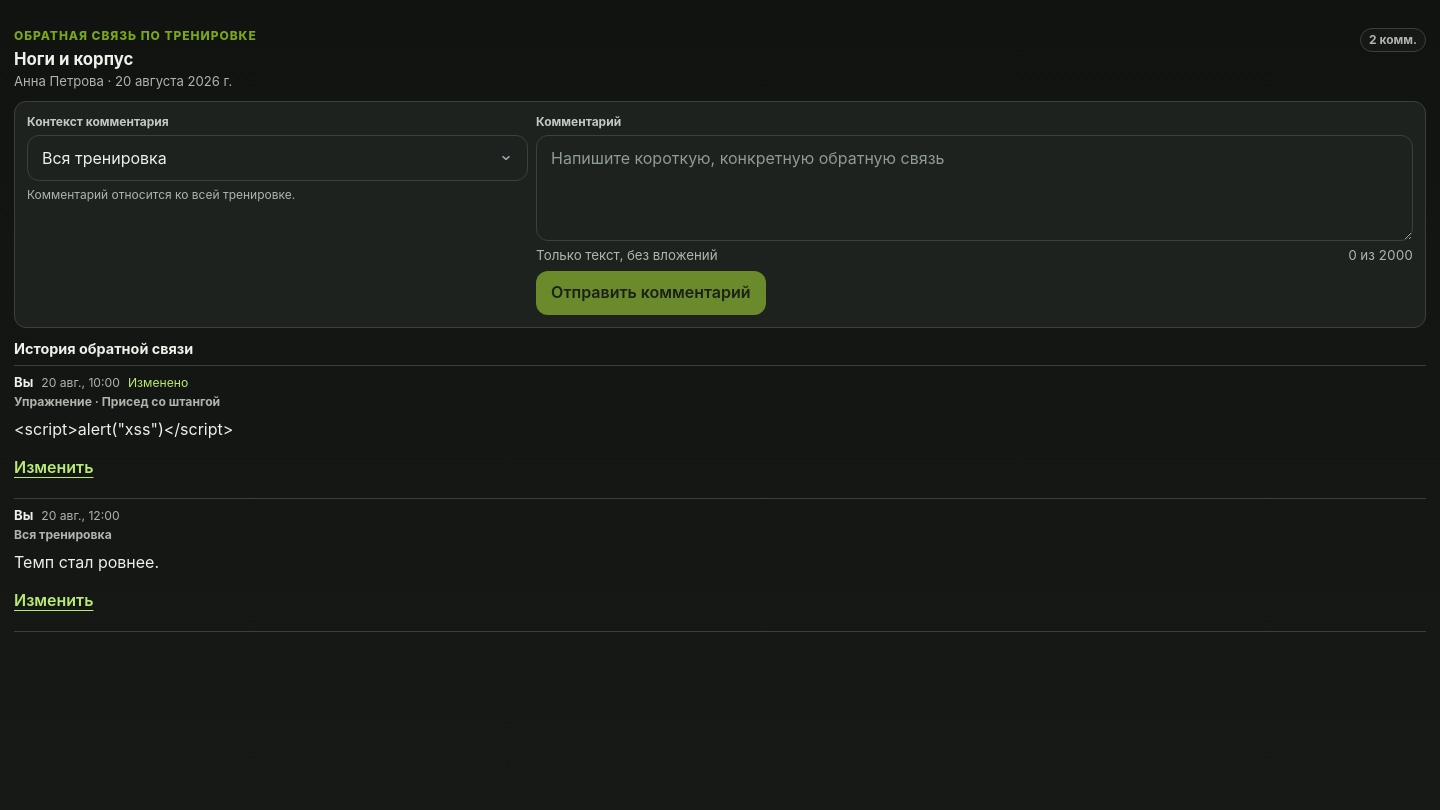
WorkoutFeedback › редактирует существующий комментарий через поддерживаемый PATCH
Click the button "Изменить" below "20 авг., 10:00".
click(54, 468)  # box [14, 446, 94, 490]
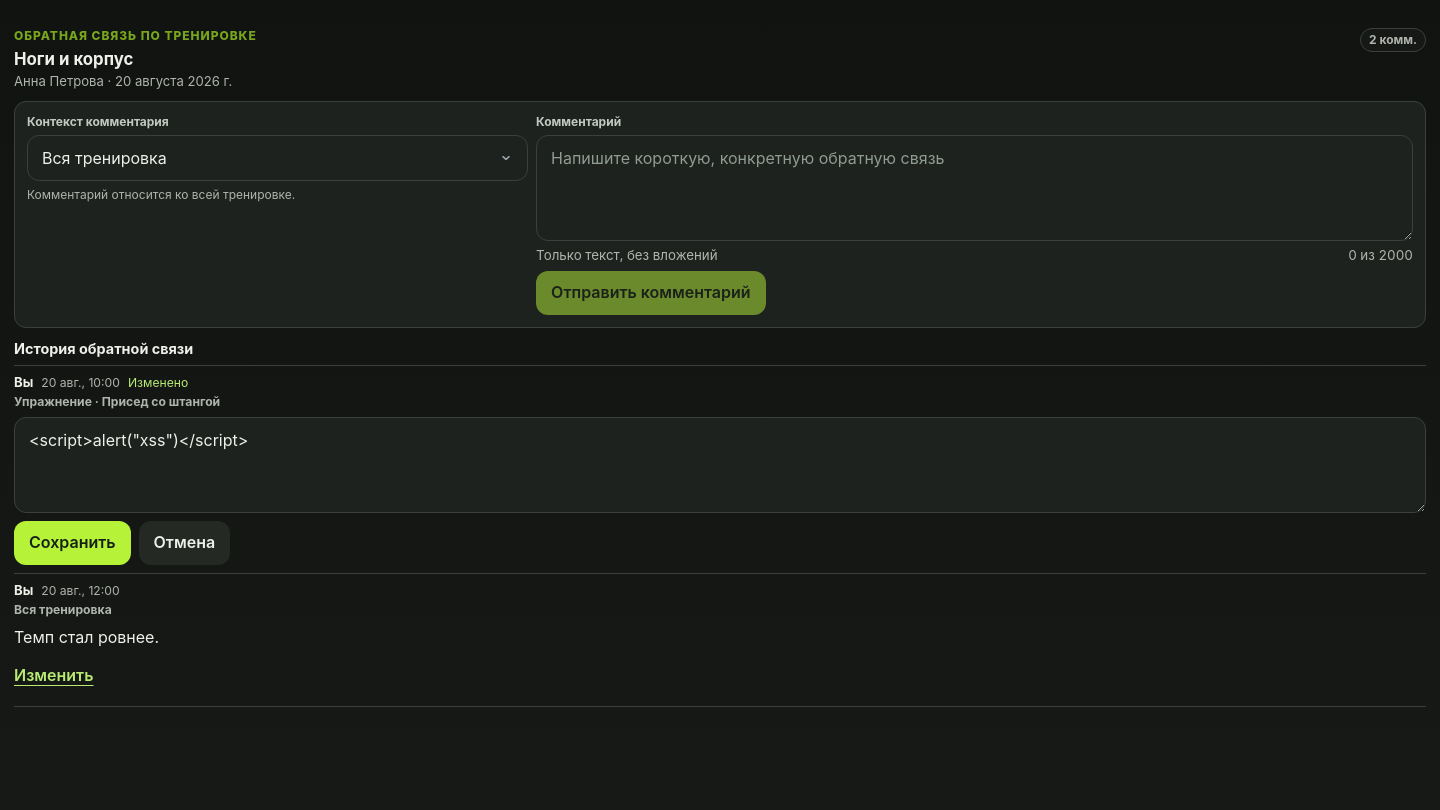
Replace the text in the text box named "Изменить комментарий" with "Колени двигаются увереннее." at (720, 465), box [14, 417, 1426, 513]
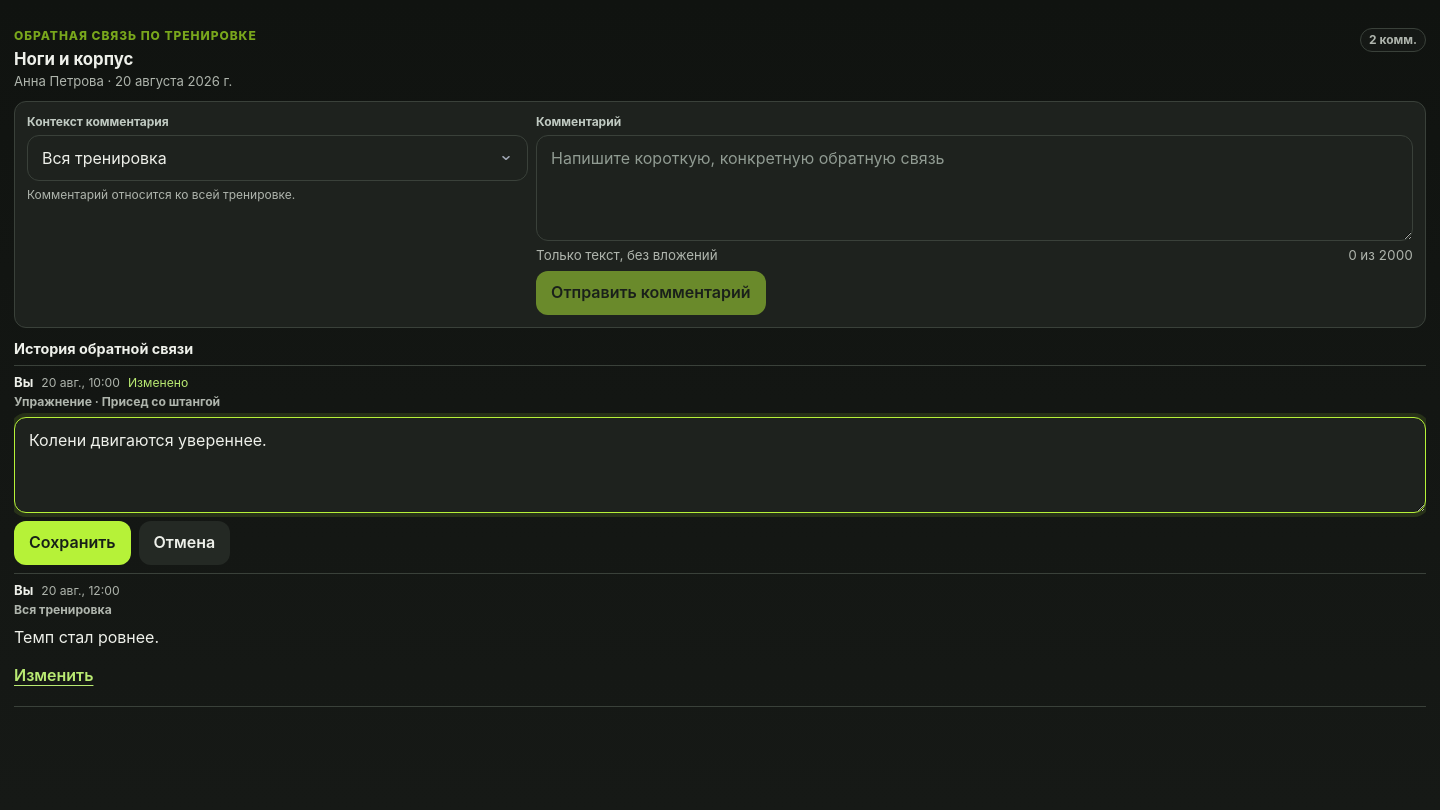
Click the button "Сохранить".
click(72, 543)  # box [14, 521, 130, 565]
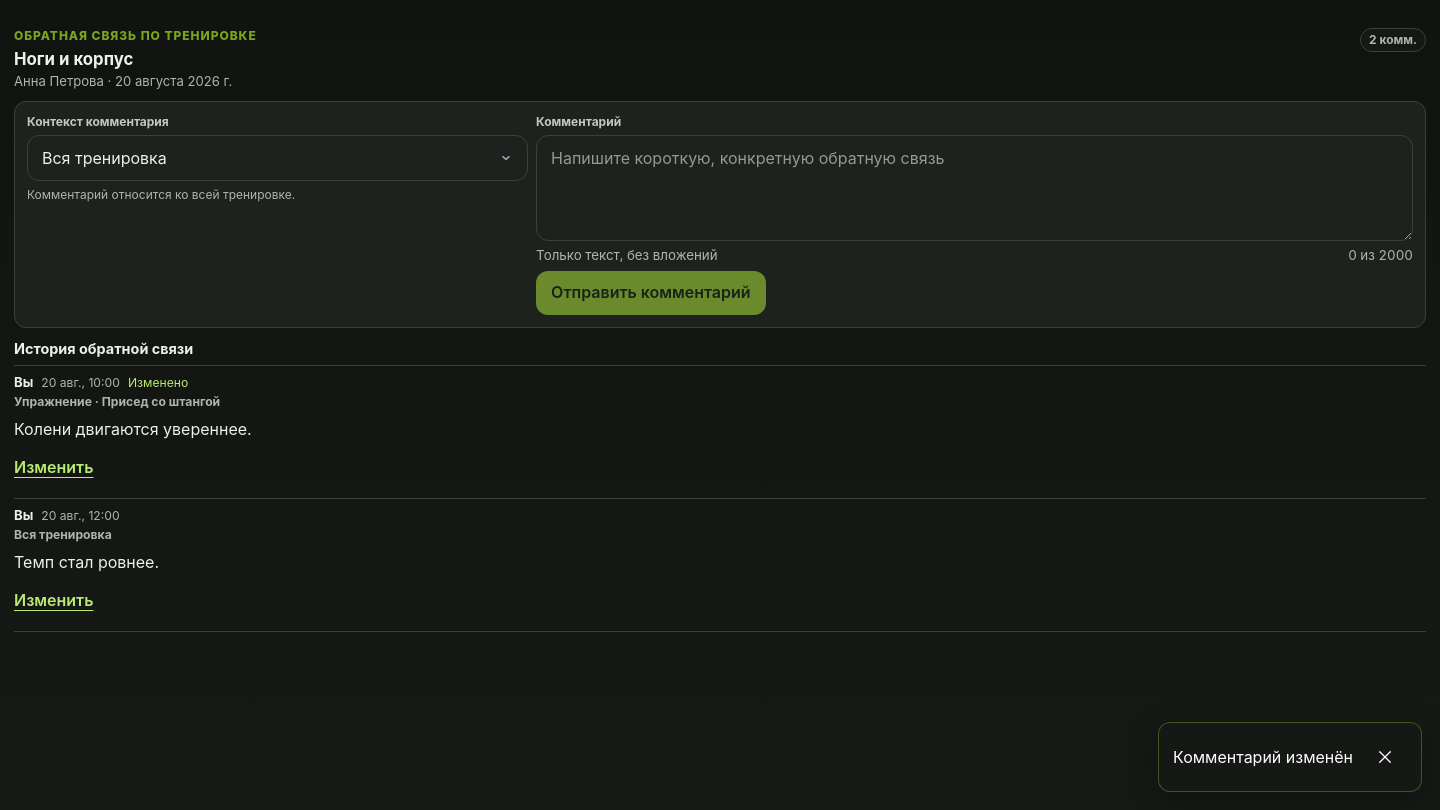
expect the text "Колени двигаются увереннее." is shown: met, box [14, 419, 252, 439]
